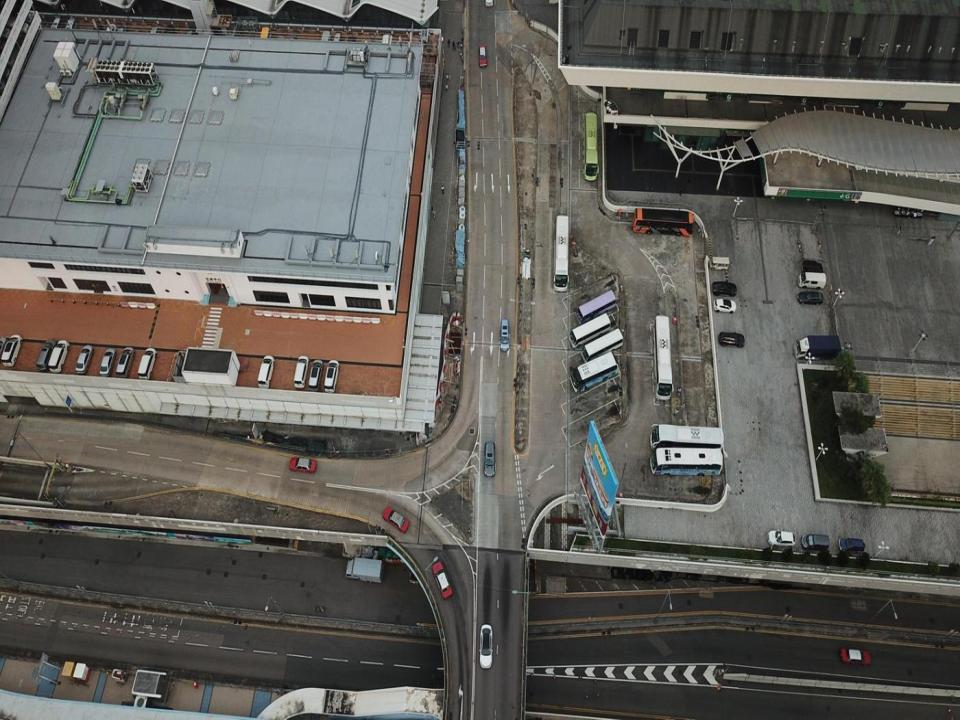bus: (650, 423, 723, 453), (649, 447, 723, 476), (570, 351, 618, 392), (632, 207, 693, 238), (653, 315, 673, 400), (581, 328, 623, 364), (568, 313, 610, 348), (576, 290, 616, 324), (554, 214, 568, 291), (584, 112, 599, 181)
car: (431, 562, 452, 598), (382, 506, 410, 532), (479, 624, 492, 668), (766, 528, 796, 547), (75, 344, 94, 373), (841, 648, 870, 666), (99, 348, 116, 378), (288, 457, 316, 473), (798, 291, 824, 306), (712, 281, 736, 297), (713, 299, 737, 312), (478, 44, 486, 68)
truck: (794, 335, 841, 360), (345, 557, 384, 583)
van: (36, 339, 58, 372), (48, 339, 69, 373), (115, 346, 135, 380), (1, 334, 22, 366), (257, 355, 275, 391), (137, 348, 156, 380), (324, 360, 340, 393), (294, 357, 310, 389), (308, 360, 324, 392), (798, 271, 826, 289), (801, 534, 830, 551), (839, 537, 865, 554), (719, 332, 745, 348), (484, 441, 495, 477), (801, 259, 823, 277), (499, 319, 510, 351)
